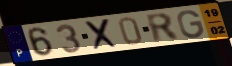0: (117, 16, 145, 47)
3: (55, 22, 83, 55)
6: (26, 26, 56, 58)
G: (176, 9, 206, 40)
R: (143, 12, 182, 45)
X: (83, 17, 121, 52)
